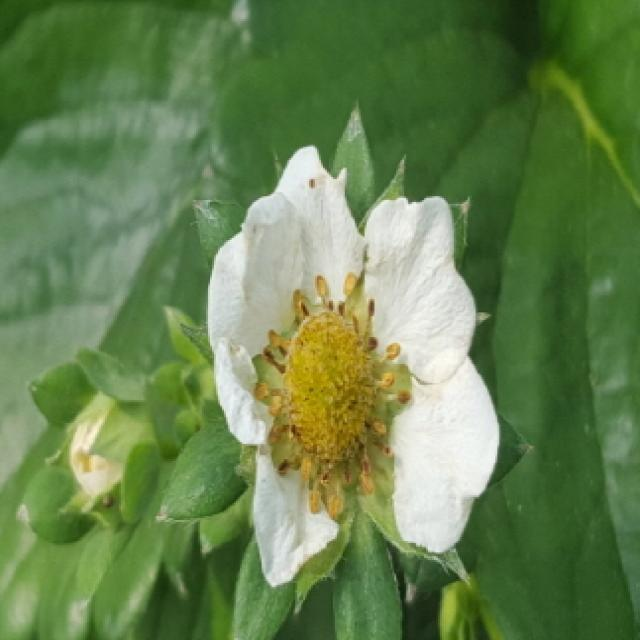Blossom Blight: (250, 266, 416, 522)
